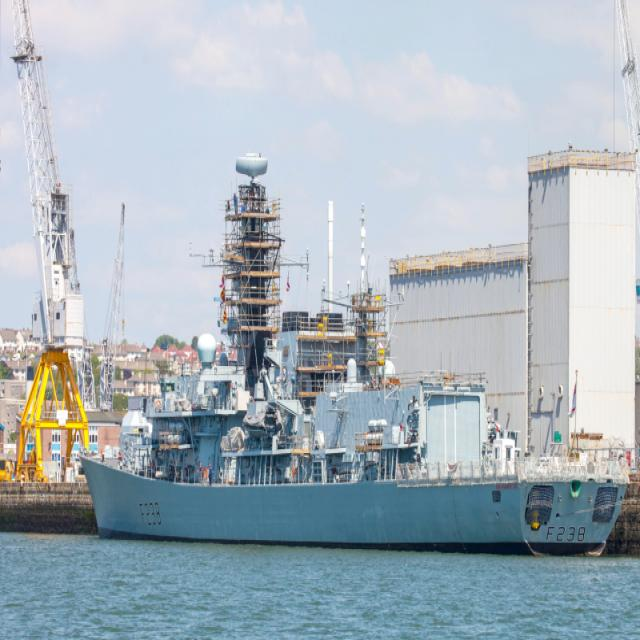Fragata: (74, 134, 631, 563)
